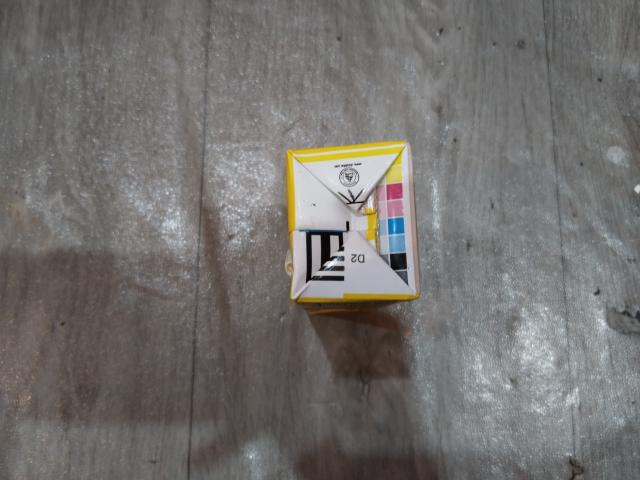drink_box: (274, 140, 426, 318)
